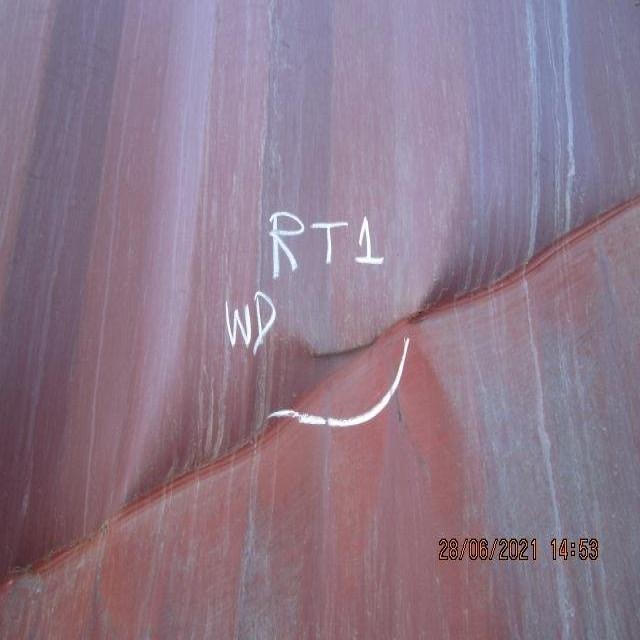dent: (7, 134, 633, 584)
